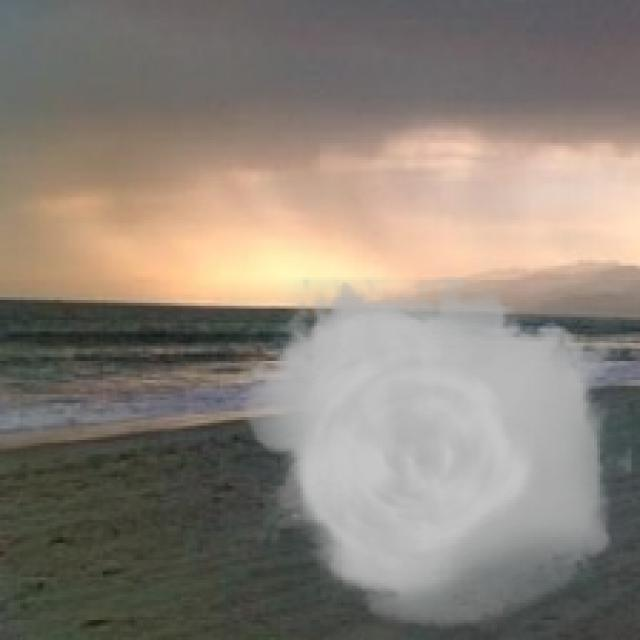smoke: (228, 277, 632, 629)
